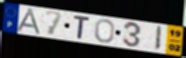3: (123, 21, 143, 49)
7: (44, 10, 63, 37)
A: (14, 8, 43, 36)
I: (153, 25, 163, 52)
O: (93, 18, 116, 43)
T: (72, 14, 91, 40)
